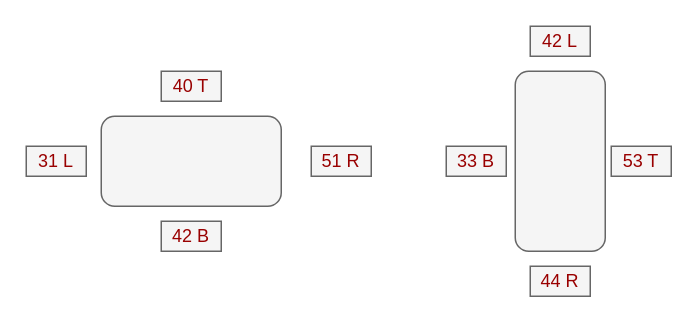
Image size: 698x323. Some labels were removed from this diagram. Each missing label, with the box of its shape:
41 not flipped: (100, 115, 281, 206)
43 flipped: (514, 70, 605, 251)
